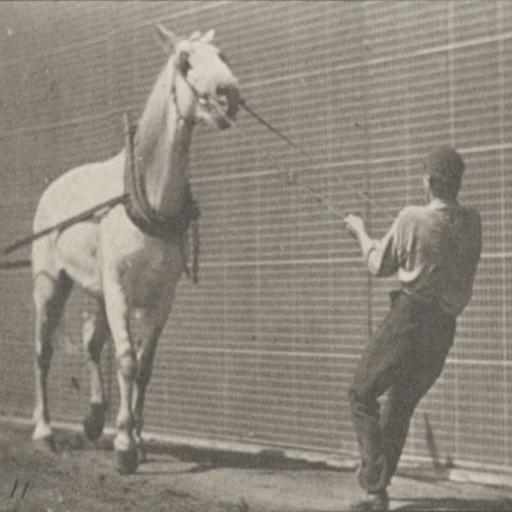horse: (34, 26, 242, 480)
